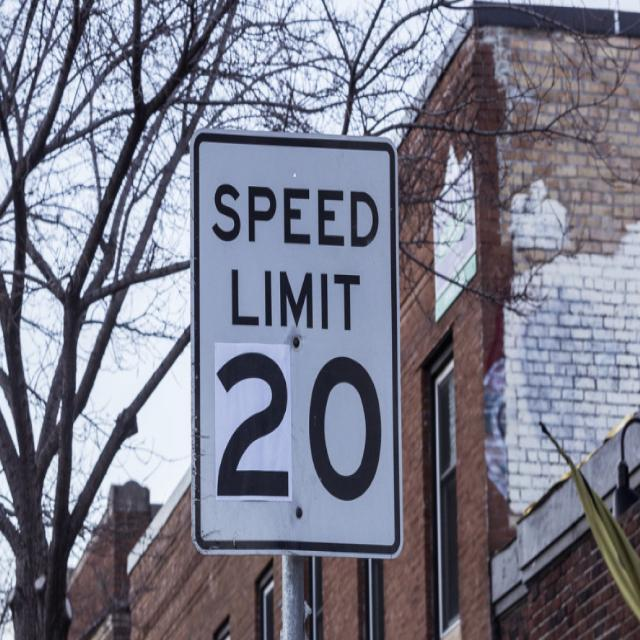speedLimit20: (198, 147, 392, 546)
